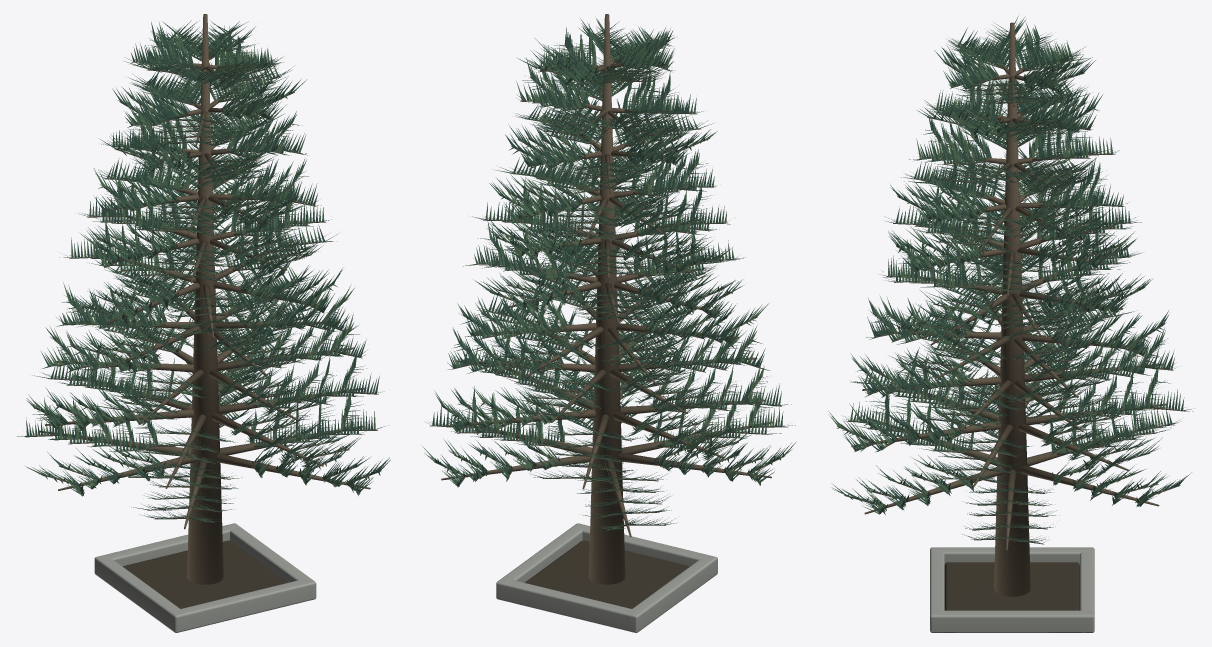
The model's file is pine_tree.glb.
3 views of the same model, side by side, from view 1: azimuth 30°, elevation 25°; view 2: azimuth 150°, elevation 25°; view 3: azimuth 270°, elevation 25° (orthographic).
Parts seen in each view (by area): view 1: Single pine needle canopy, Pine single continuous trunk, Square tree pit soil, Square tree pit border.002, Square tree pit border, Square tree pit border.001, Square tree pit border.003, Pine woody radial branch.005, Pine woody radial branch.010, Pine woody radial branch.003; view 2: Single pine needle canopy, Pine single continuous trunk, Square tree pit soil, Square tree pit border.003, Square tree pit border, Square tree pit border.001, Square tree pit border.002, Pine woody radial branch.003, Pine woody radial branch.001, Pine woody radial branch.008; view 3: Single pine needle canopy, Pine single continuous trunk, Square tree pit soil, Square tree pit border.001, Square tree pit border, Square tree pit border.002, Square tree pit border.003, Pine woody radial branch.001, Pine woody radial branch.005, Pine woody radial branch.006, Pine woody radial branch.010.
Part boxes in pixels (box(x1,y1,x2,y2)): Single pine needle canopy: box(17, 20, 390, 522); Pine single continuous trunk: box(187, 14, 223, 584); Square tree pit soil: box(122, 540, 287, 608); Square tree pit border.002: box(169, 578, 316, 632); Square tree pit border: box(94, 556, 186, 632); Square tree pit border.001: box(230, 523, 315, 600); Square tree pit border.003: box(95, 523, 239, 573); Pine woody radial branch.005: box(216, 454, 370, 489); Pine woody radial branch.010: box(211, 412, 323, 466); Pine woody radial branch.003: box(58, 454, 196, 490); Single pine needle canopy: box(422, 18, 796, 530); Pine single continuous trunk: box(588, 14, 625, 584); Square tree pit soil: box(525, 540, 689, 608); Square tree pit border.003: box(496, 578, 643, 632); Square tree pit border: box(626, 556, 717, 632); Square tree pit border.001: box(496, 523, 582, 599); Square tree pit border.002: box(574, 523, 717, 570); Pine woody radial branch.003: box(618, 452, 771, 478); Pine woody radial branch.001: box(441, 453, 595, 480); Pine woody radial branch.008: box(613, 412, 723, 457); Single pine needle canopy: box(828, 16, 1193, 543); Pine single continuous trunk: box(994, 22, 1030, 596); Square tree pit soil: box(944, 562, 1079, 610); Square tree pit border.001: box(930, 610, 1094, 632); Square tree pit border: box(930, 547, 1094, 564); Square tree pit border.002: box(930, 547, 944, 632); Square tree pit border.003: box(1080, 547, 1094, 632); Pine woody radial branch.001: box(1021, 465, 1159, 506); Pine woody radial branch.005: box(864, 466, 1003, 514); Pine woody radial branch.006: box(1018, 423, 1129, 471); Pine woody radial branch.010: box(851, 421, 1000, 446).
Size of the model in its own units: 3.16 by 5.18 by 3.02.
